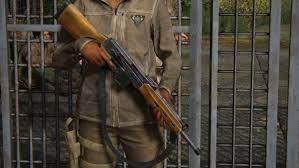rifle: (54, 0, 202, 162)
